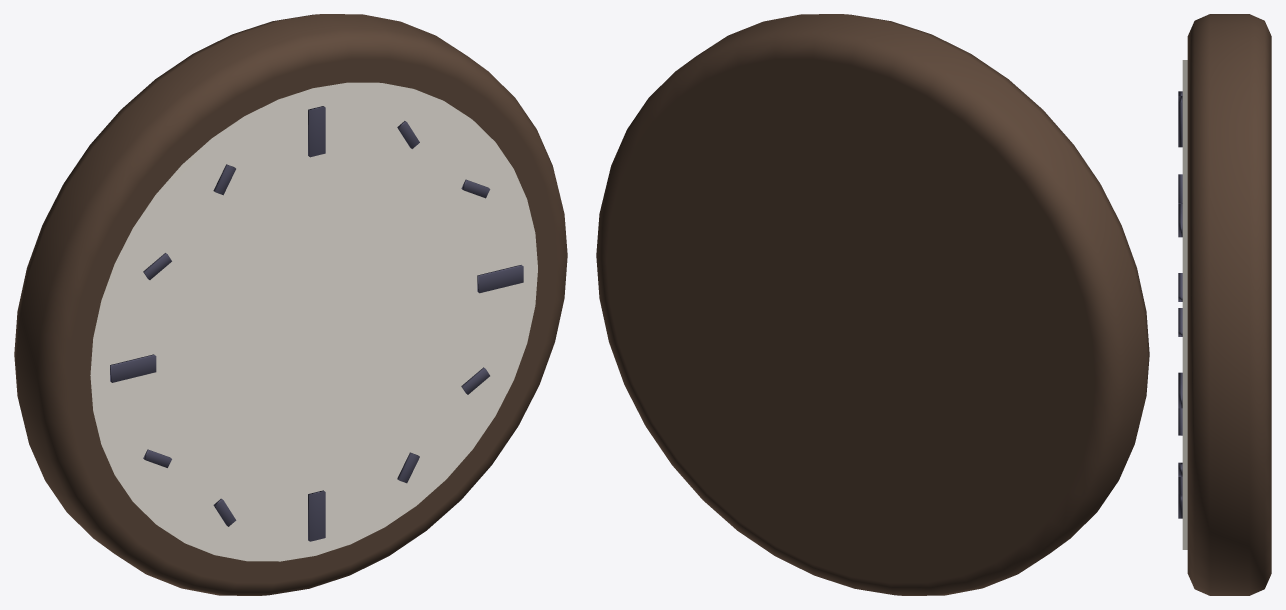
File: clock.glb
The picture shows the model from 3 angles, left to right: view 1: azimuth 30°, elevation 25°; view 2: azimuth 150°, elevation 25°; view 3: azimuth 270°, elevation 25°; orthographic projection. The views are drawn at different scales.
Visible parts, largest first — view 1: clock; view 2: clock; view 3: clock.
Part boxes in pixels (x1,y1,x2,y2): clock: [14, 14, 567, 595]; clock: [596, 14, 1149, 595]; clock: [1178, 14, 1271, 595].
Bounding box in the file's own units: 0.4088 × 0.4088 × 0.0654.
